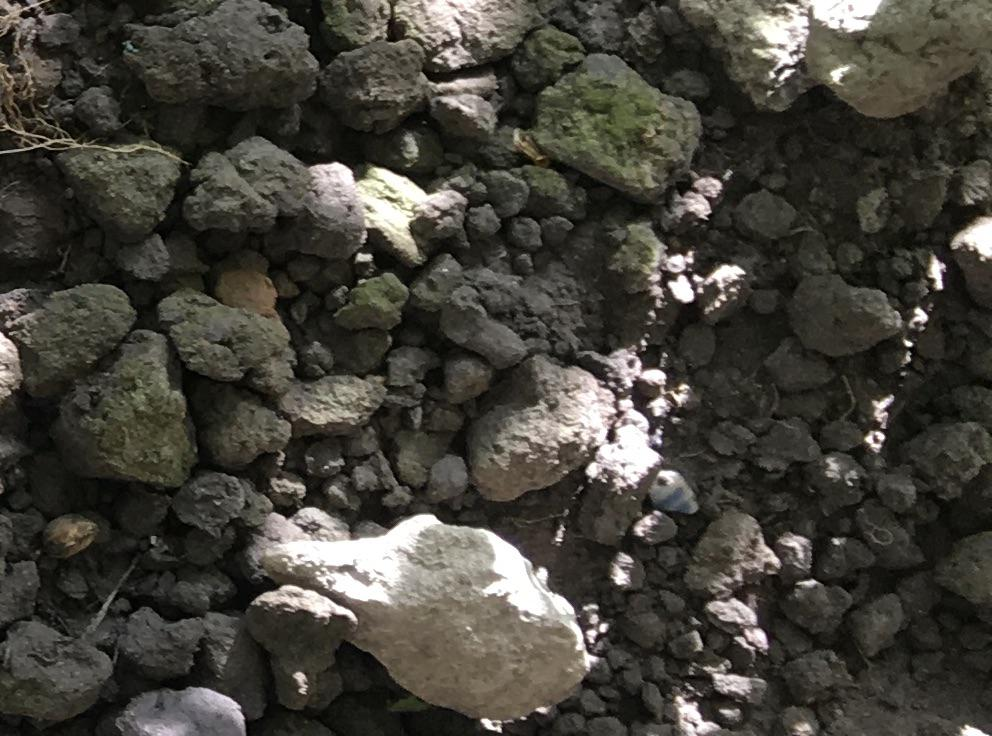block: (250, 518, 589, 724), (531, 46, 701, 203), (44, 328, 195, 492), (121, 1, 323, 108), (463, 353, 600, 510)
